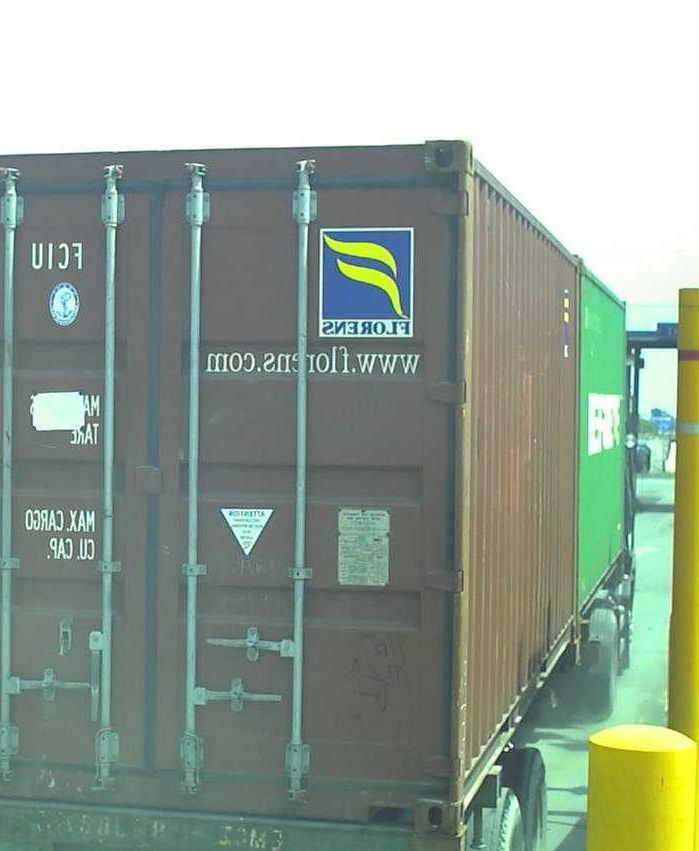container_door: (1, 143, 463, 834)
